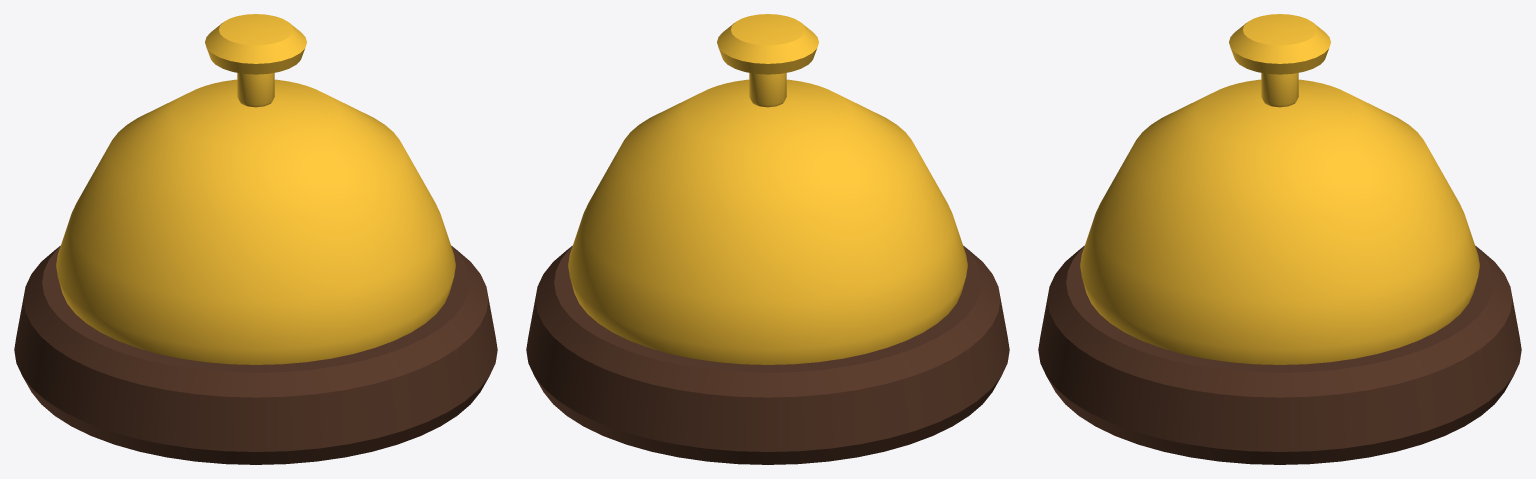
File: PropServiceBell.fbx
3 views of the same model, side by side, from view 1: azimuth 30°, elevation 25°; view 2: azimuth 150°, elevation 25°; view 3: azimuth 270°, elevation 25° (orthographic).
Parts seen in each view (by area): view 1: Gold, Wood; view 2: Gold, Wood; view 3: Gold, Wood.
Part boxes in pixels (x1=…): Gold: x1=56, y1=14, x2=455, y2=364; Wood: x1=14, y1=245, x2=497, y2=464; Gold: x1=568, y1=14, x2=967, y2=364; Wood: x1=526, y1=245, x2=1009, y2=464; Gold: x1=1080, y1=14, x2=1479, y2=364; Wood: x1=1038, y1=245, x2=1521, y2=464.
Size of the model in its own units: 104 by 81 by 104.
